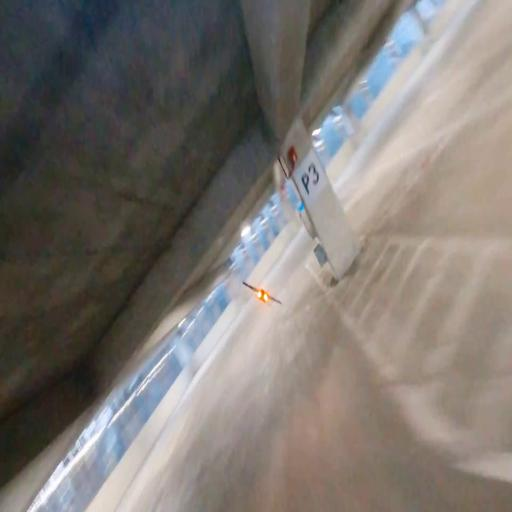uav: (239, 277, 283, 314)
